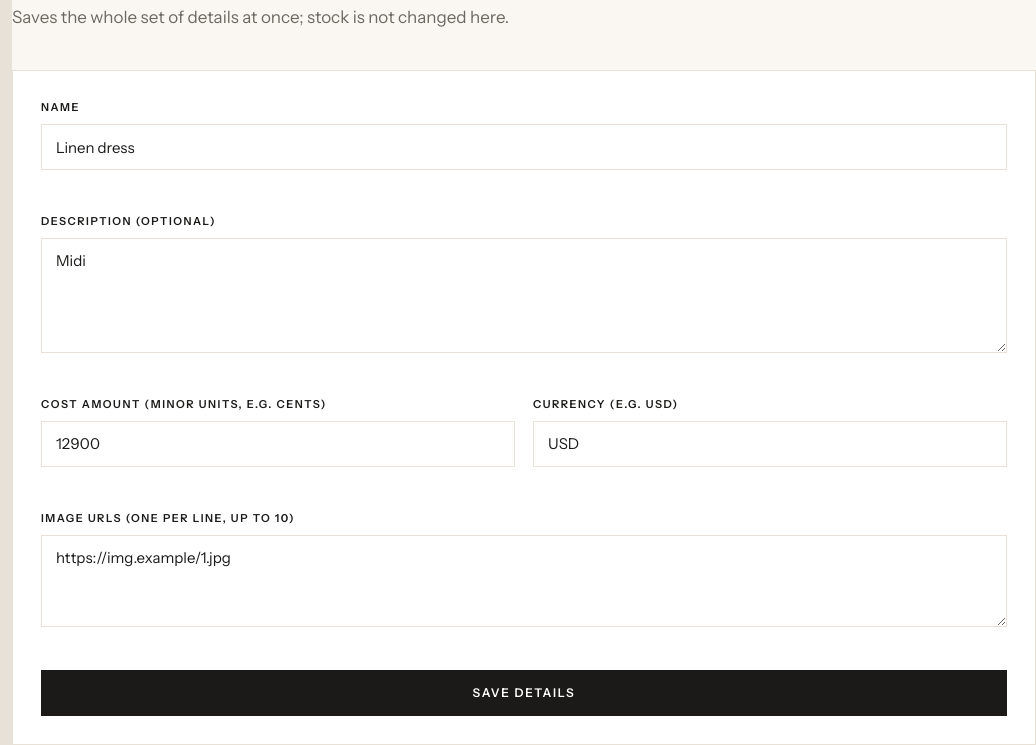
Test: EditSkuPage (#/sku/:id/edit) › Reload clears a stale "not a number" state so a valid reloaded amount is not flagged (R-02)
This screenshot has width=1036, height=745.
(page scrolled)
Click the button "Save details" at (524, 693), box [41,670,1007,716]
(page scrolled)
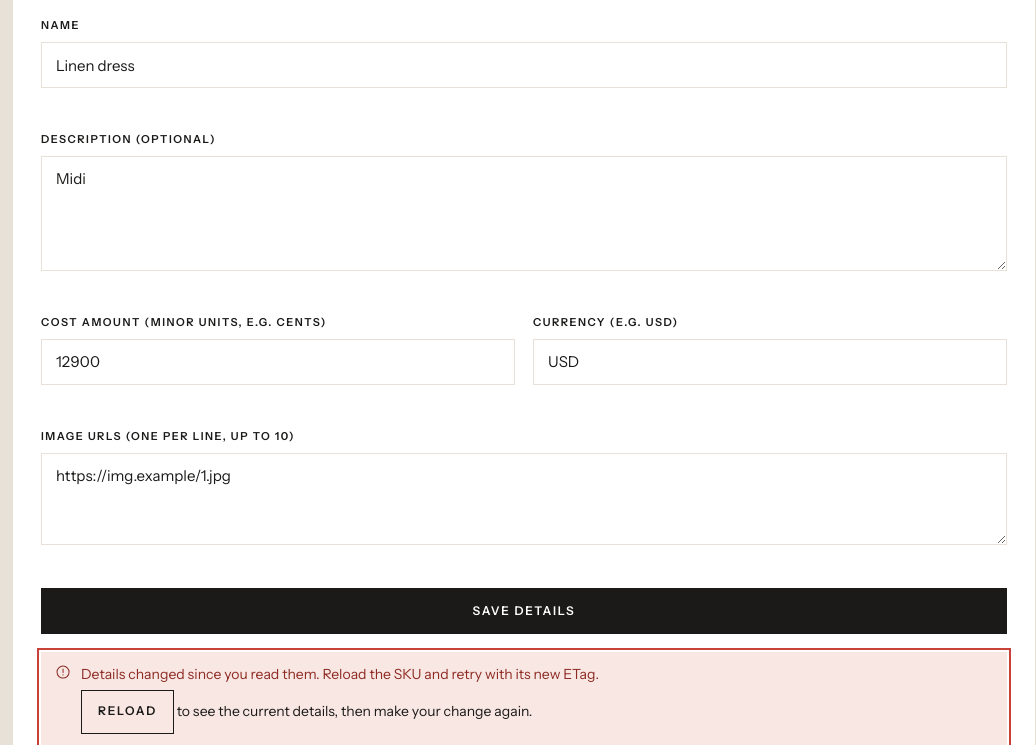
Now the message is shown, box [41,652,1007,744]
Clear the number field labelled "Cost amount (minor units, e.g. cents)" at (278, 362), box [41,339,515,385]
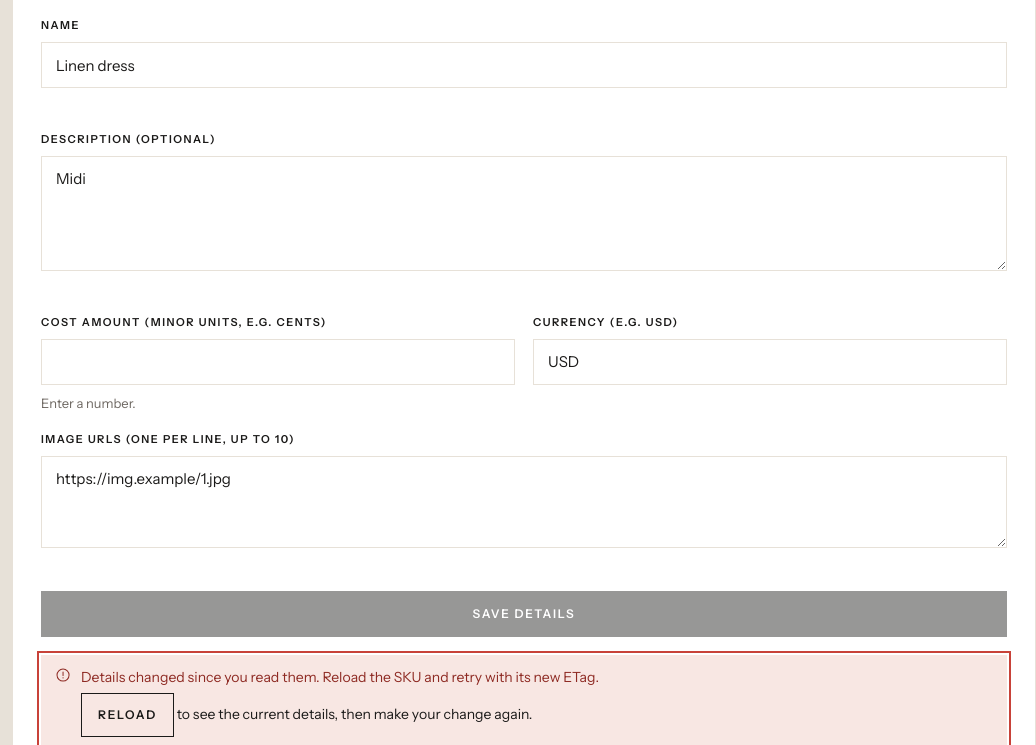
Now the button "Save details" is disabled, box [41,591,1007,637]
Click the button "Reload" at (128, 715), box [81,693,174,737]
(page scrolled)
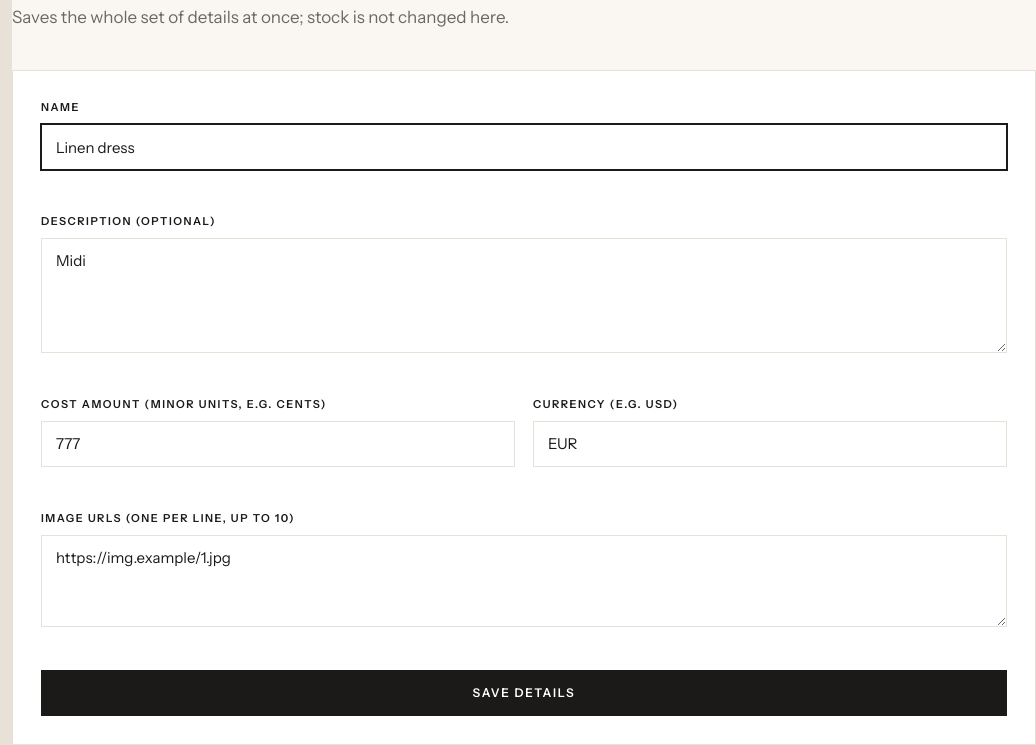
Now the number field labelled "Cost amount (minor units, e.g. cents)" holds "777", box [41,421,515,467]
